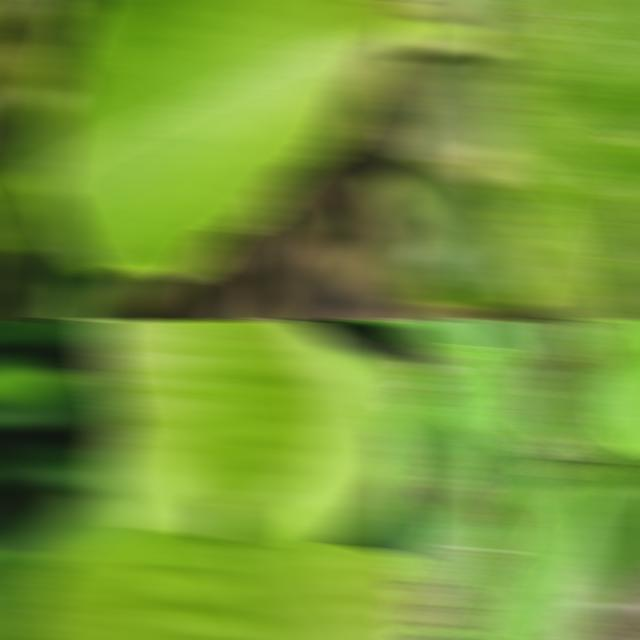Leaf: (32, 0, 419, 280), (488, 0, 640, 320), (89, 320, 347, 505), (27, 528, 420, 640), (398, 156, 546, 308), (21, 191, 147, 320), (398, 54, 517, 162), (435, 344, 549, 456), (398, 388, 469, 526), (572, 320, 640, 462), (452, 423, 525, 549), (398, 495, 472, 589), (590, 488, 640, 605), (339, 494, 420, 559), (444, 320, 532, 372), (492, 450, 546, 520), (398, 17, 482, 60), (610, 449, 640, 563), (545, 377, 598, 441), (440, 494, 498, 547), (369, 174, 420, 229), (398, 320, 475, 355), (527, 320, 581, 359), (505, 326, 553, 363), (579, 320, 630, 353)
